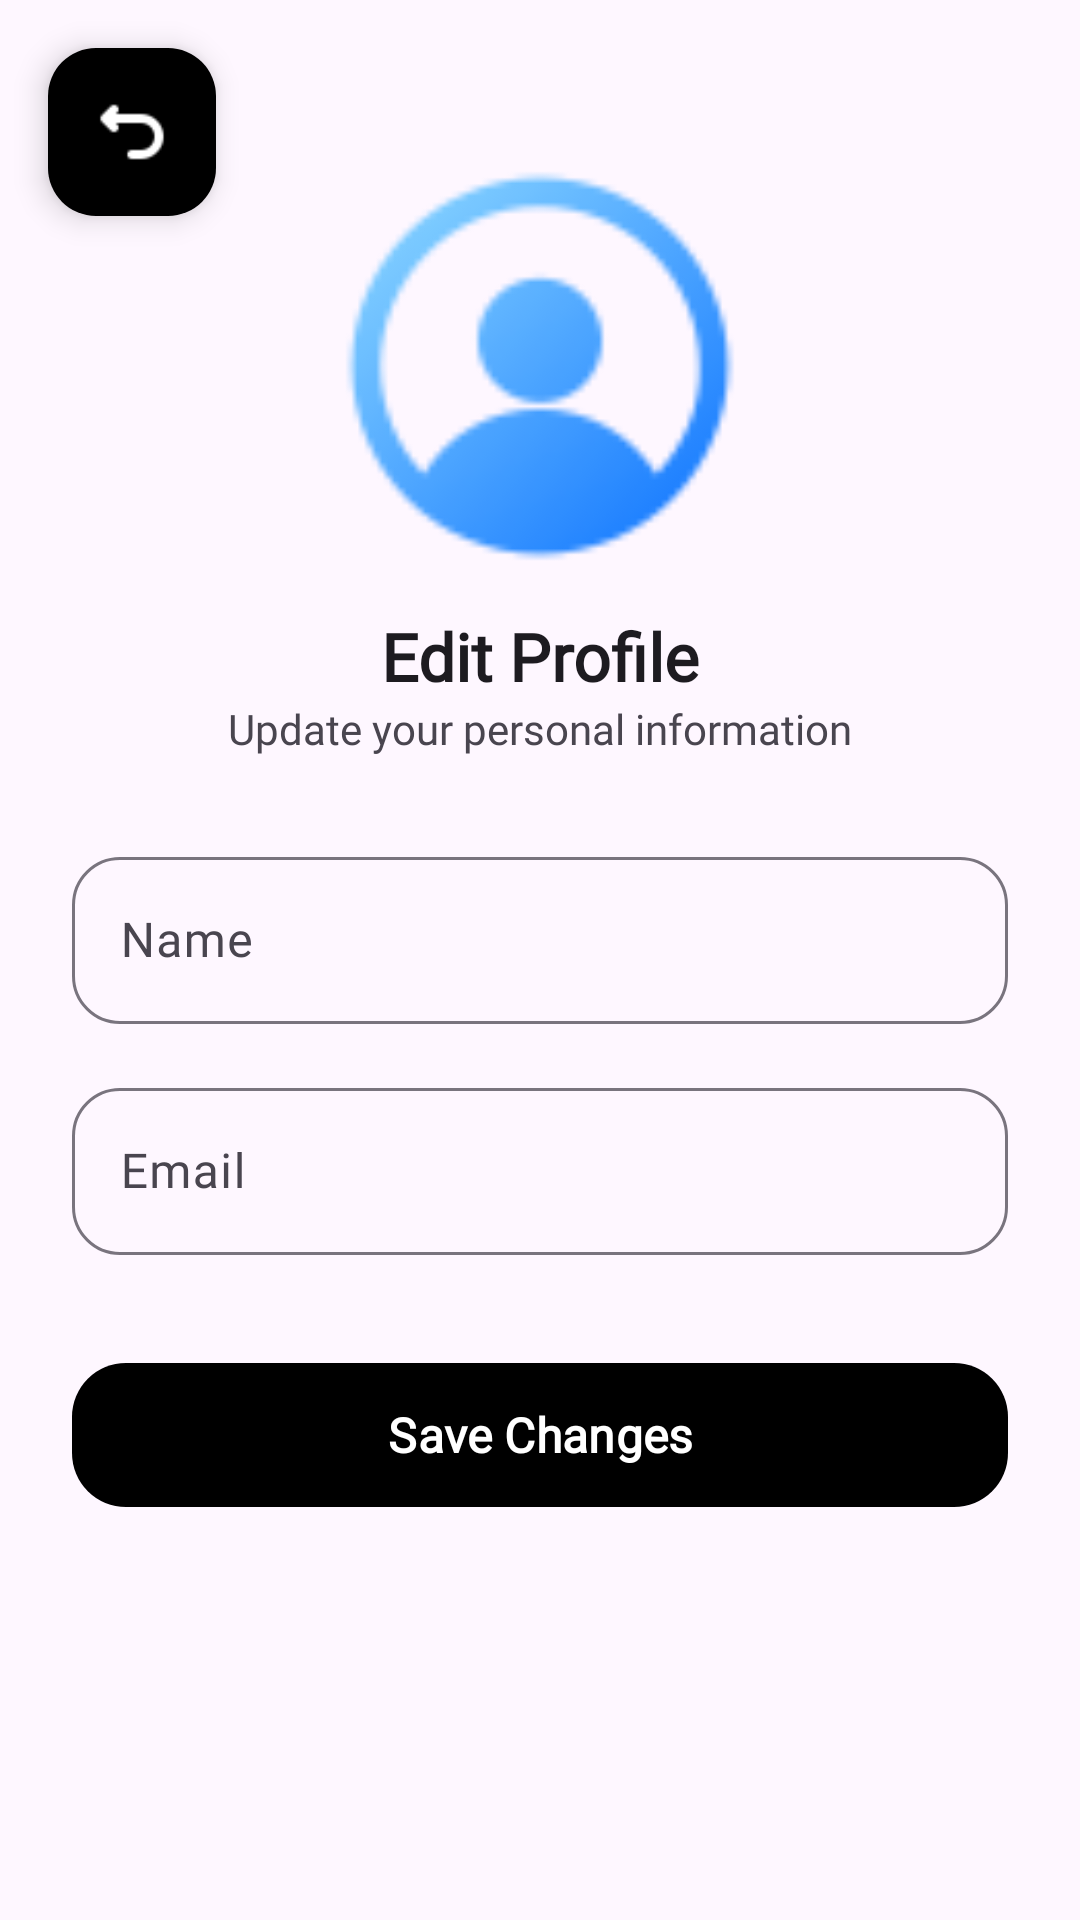

Icon click points for this 1080 × 1920 phone screenshot, format (x,y):
back: (132,132)
